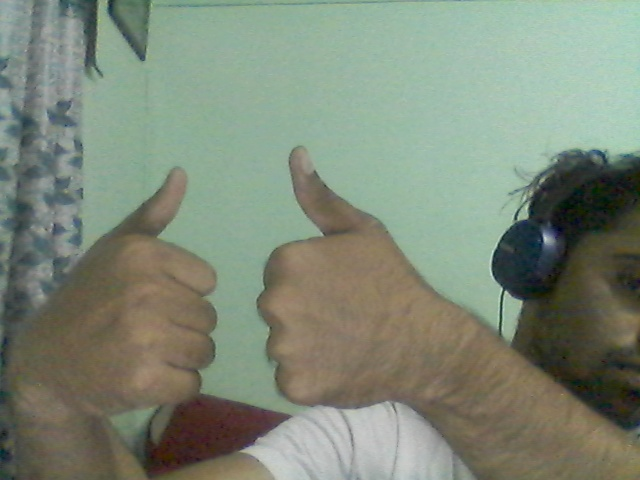Thank You: (30, 131, 509, 471)
